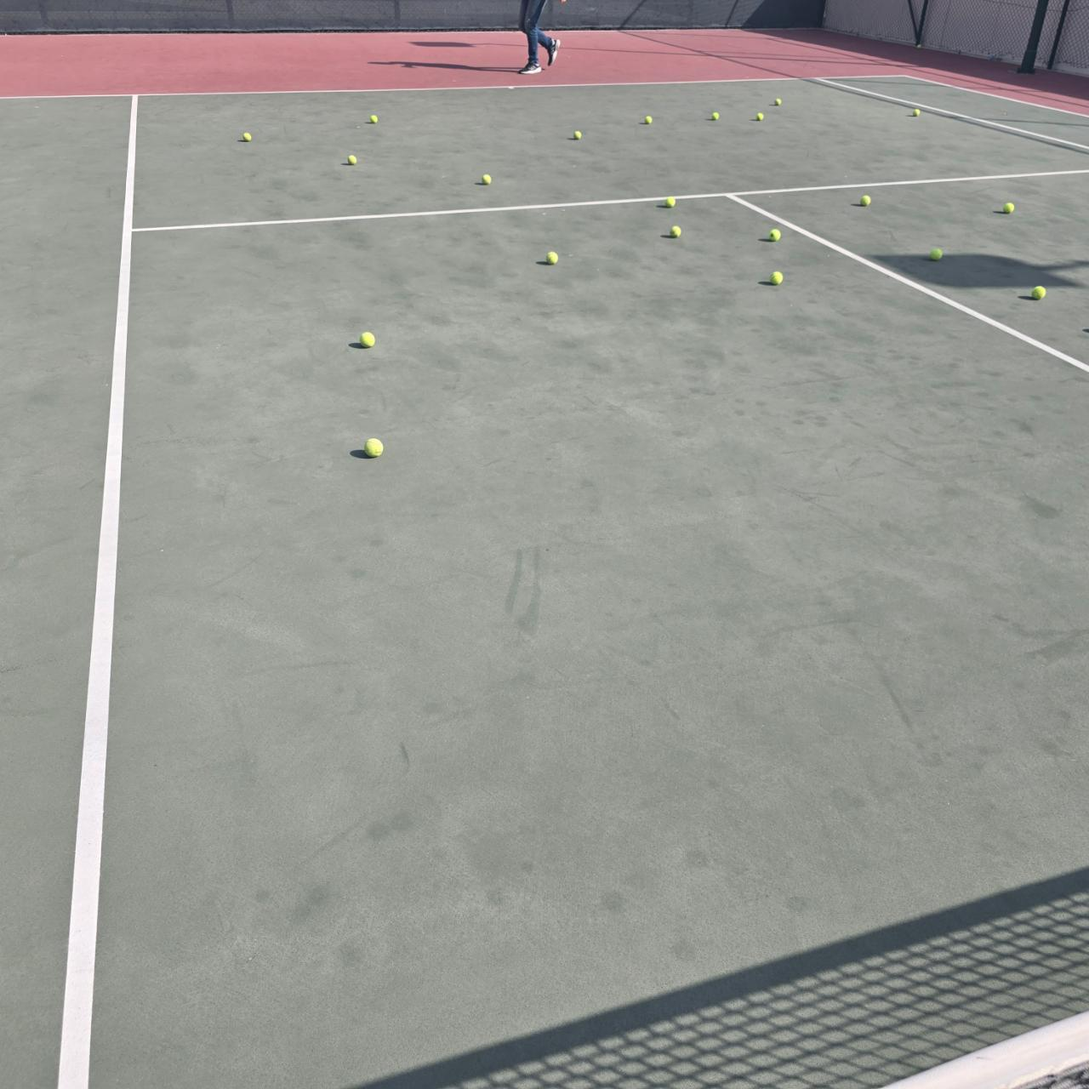tennis-ball: (363, 435, 384, 457), (358, 328, 375, 347), (1031, 284, 1046, 300), (545, 251, 559, 265), (770, 269, 783, 284), (669, 225, 682, 239), (768, 228, 781, 242), (929, 248, 942, 261), (1003, 202, 1015, 215), (859, 195, 871, 207), (665, 196, 676, 208), (481, 174, 492, 185), (347, 154, 357, 164), (242, 132, 252, 142), (573, 131, 582, 141), (774, 98, 783, 107), (370, 115, 378, 124), (755, 113, 764, 121), (712, 112, 720, 121), (644, 116, 652, 125), (912, 109, 920, 118), (916, 44, 921, 49)
